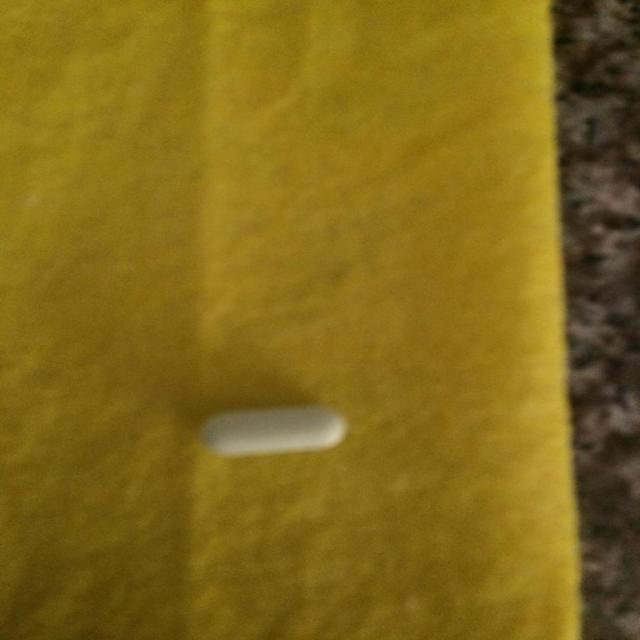pills: (182, 389, 356, 464)
